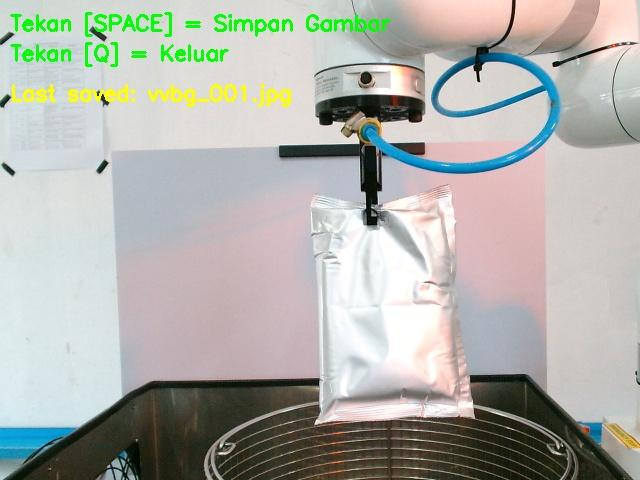retort-pouch: (309, 184, 477, 423)
